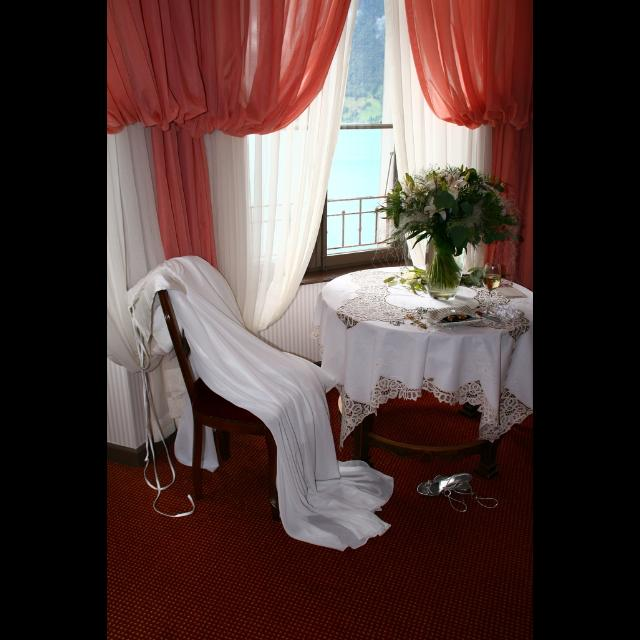Flower: (404, 162, 468, 222)
